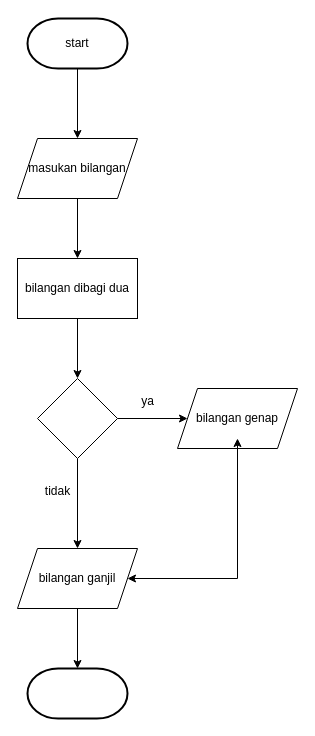
This 315x736 diagram has some shape labels left out. Here are the shapes that lost their labels. From the top down, the box of each, then its label:
(36, 378, 118, 458): sisa=?
(26, 667, 128, 719): finish
